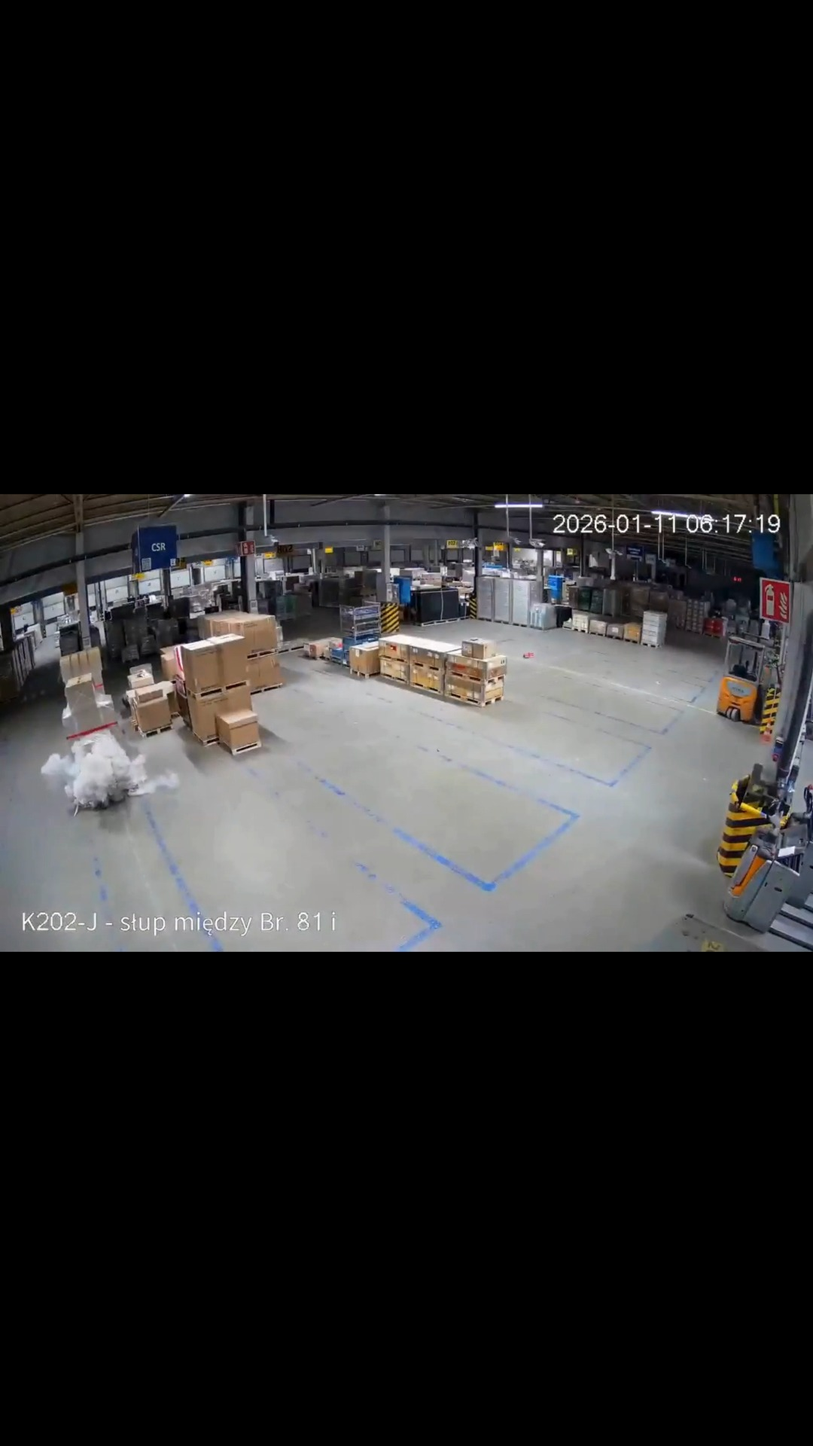smoke: (49, 739, 186, 828)
